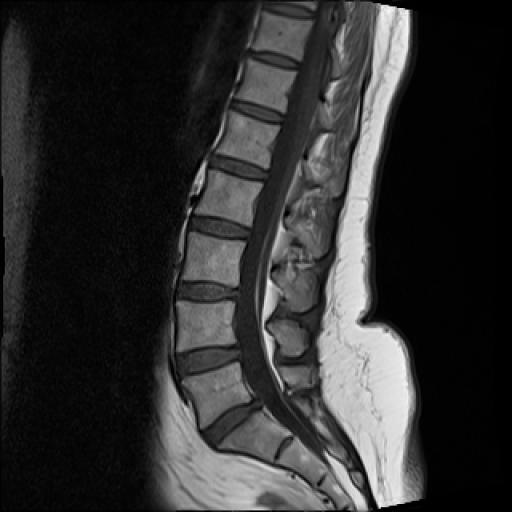L1: (217, 111, 280, 168)
L2: (194, 169, 263, 226)
L3: (182, 232, 245, 286)
L4: (176, 300, 235, 352)
L5: (182, 363, 252, 428)
S1: (218, 411, 291, 460)
